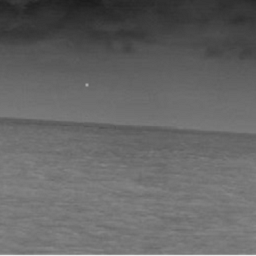Target: (83, 81, 90, 87)
